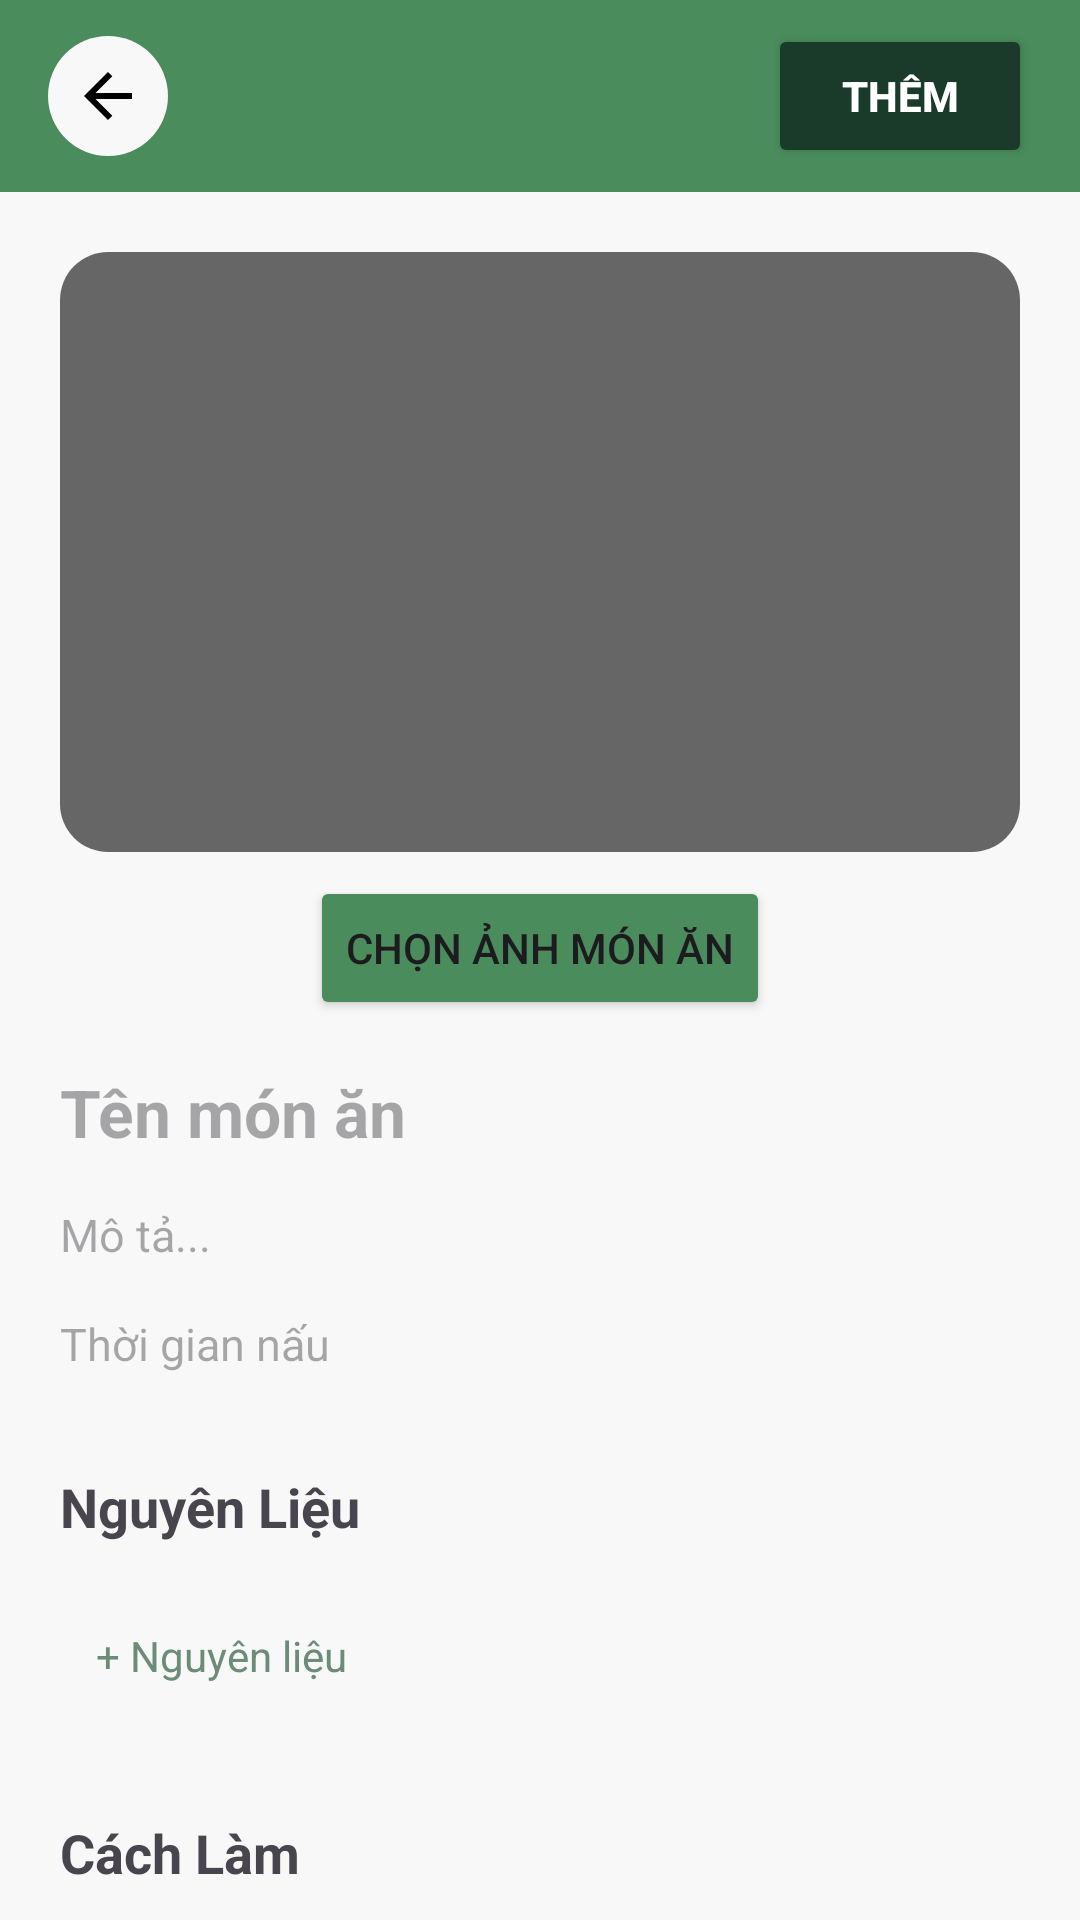

Point at icon controls on the screen. Image size 1080px x 1920px, points as point (x, y).
arrow back: point (108, 96)
